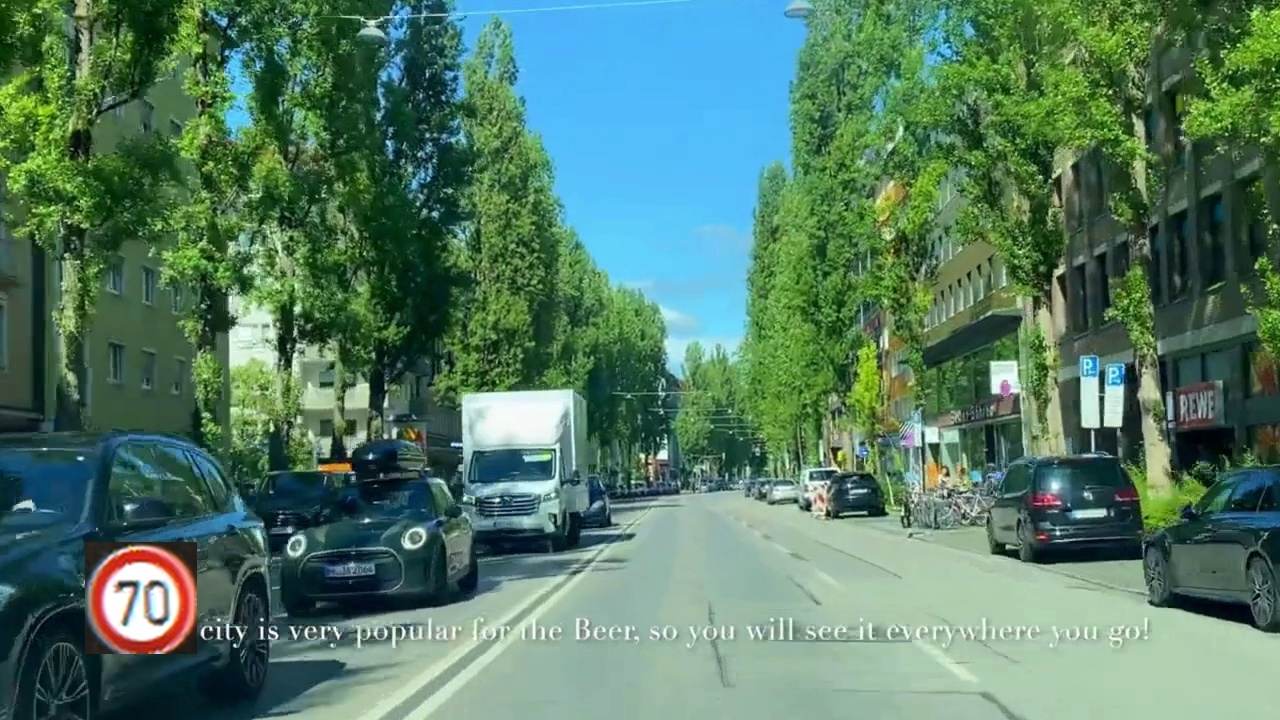Speed 70: (85, 542, 197, 654)
